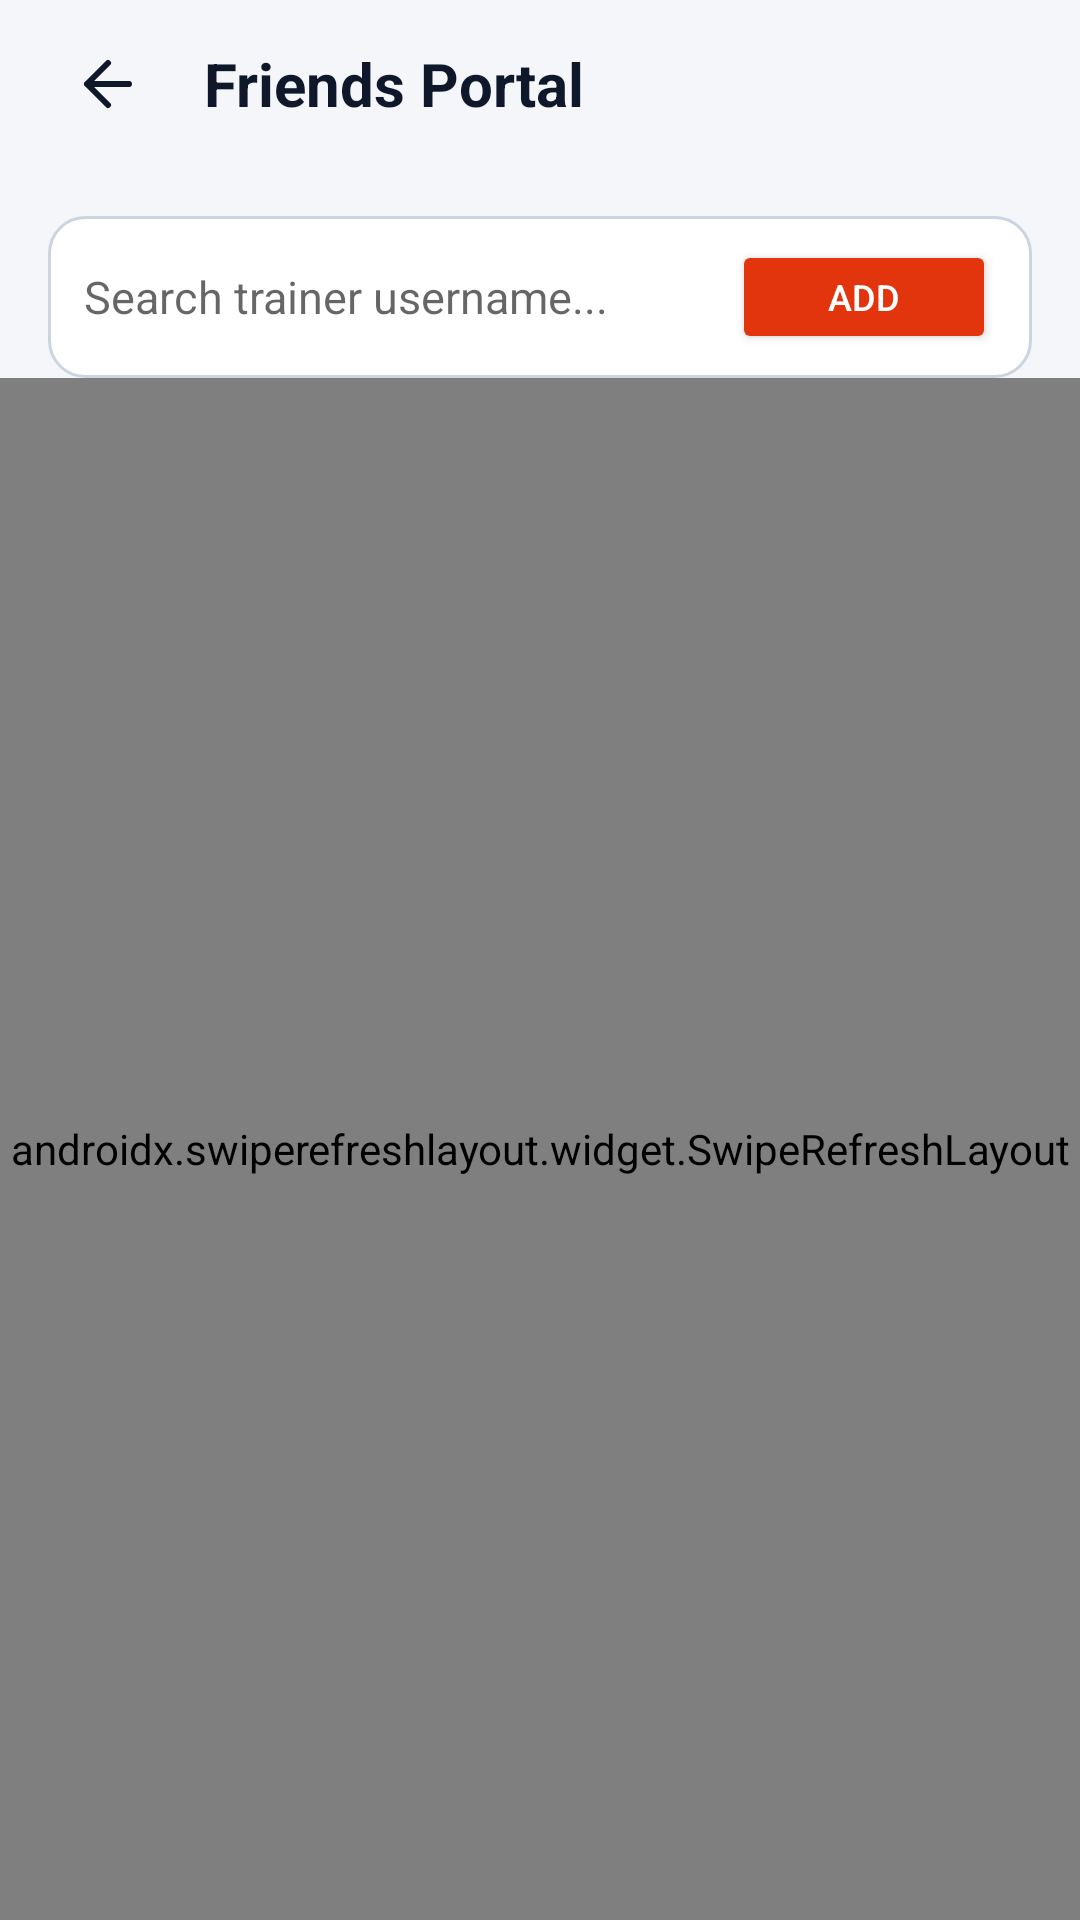

Named icons in this screenshot (1080px x 1920px) and their centers, point (x, y):
Back: point (108, 84)
